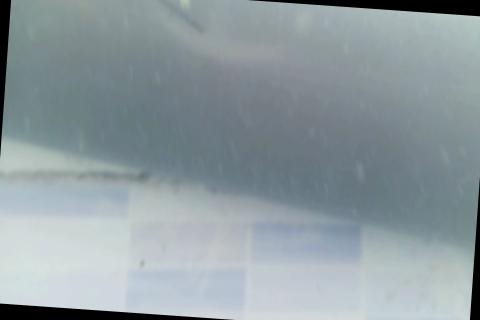keretakan: (127, 0, 211, 41)
